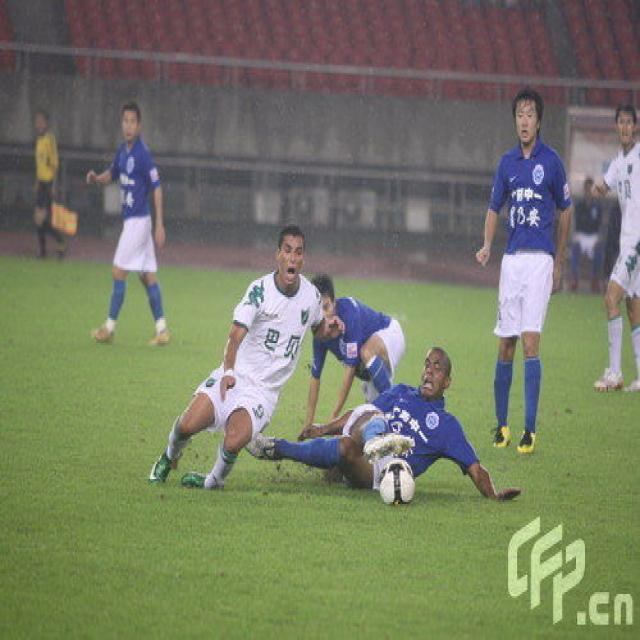fall: (258, 345, 500, 490)
